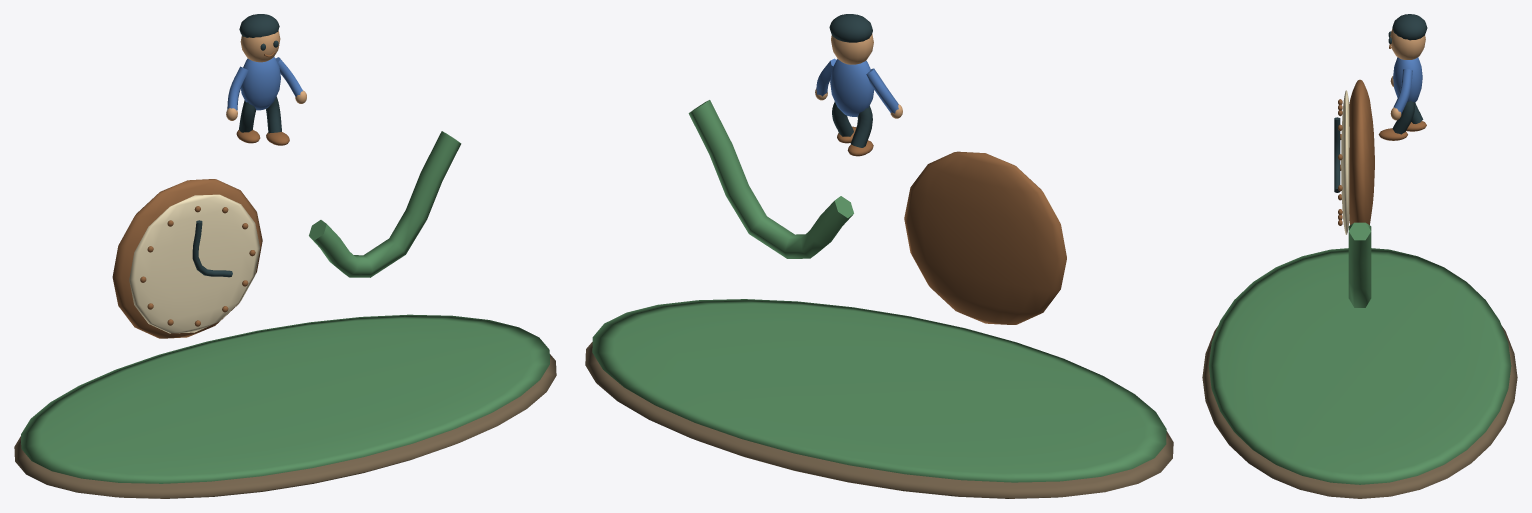
Rendered from complete-third-appointed-can-meet.glb.
3 renders of one model, left to right at view 1: azimuth 30°, elevation 25°; view 2: azimuth 150°, elevation 25°; view 3: azimuth 270°, elevation 25°, orthographic. The views are drawn at different scales.
Parts seen in each view (by area): view 1: complete-third-appointed-can-meet_surface_01, complete-third-appointed-can-meet_surface_03, complete-third-appointed-can-meet_surface_00, complete-third-appointed-can-meet_surface_02, complete-third-appointed-can-meet_surface_06, complete-third-appointed-can-meet_surface_04, complete-third-appointed-can-meet_surface_05; view 2: complete-third-appointed-can-meet_surface_01, complete-third-appointed-can-meet_surface_02, complete-third-appointed-can-meet_surface_00, complete-third-appointed-can-meet_surface_06, complete-third-appointed-can-meet_surface_04, complete-third-appointed-can-meet_surface_05; view 3: complete-third-appointed-can-meet_surface_01, complete-third-appointed-can-meet_surface_00, complete-third-appointed-can-meet_surface_02, complete-third-appointed-can-meet_surface_04, complete-third-appointed-can-meet_surface_06, complete-third-appointed-can-meet_surface_03, complete-third-appointed-can-meet_surface_05.
Part boxes in pixels (x1,y1,x2,y2): complete-third-appointed-can-meet_surface_01: (21, 131, 549, 483); complete-third-appointed-can-meet_surface_03: (129, 194, 260, 333); complete-third-appointed-can-meet_surface_00: (14, 354, 556, 498); complete-third-appointed-can-meet_surface_02: (112, 52, 289, 338); complete-third-appointed-can-meet_surface_06: (227, 57, 302, 110); complete-third-appointed-can-meet_surface_04: (192, 14, 281, 277); complete-third-appointed-can-meet_surface_05: (226, 30, 306, 120); complete-third-appointed-can-meet_surface_01: (592, 100, 1166, 482); complete-third-appointed-can-meet_surface_02: (837, 126, 1066, 324); complete-third-appointed-can-meet_surface_00: (585, 342, 1173, 498); complete-third-appointed-can-meet_surface_06: (816, 58, 898, 116); complete-third-appointed-can-meet_surface_04: (829, 14, 872, 147); complete-third-appointed-can-meet_surface_05: (815, 34, 902, 118); complete-third-appointed-can-meet_surface_01: (1208, 222, 1511, 484); complete-third-appointed-can-meet_surface_00: (1202, 326, 1517, 498); complete-third-appointed-can-meet_surface_02: (1338, 44, 1426, 225); complete-third-appointed-can-meet_surface_04: (1334, 14, 1427, 192); complete-third-appointed-can-meet_surface_06: (1393, 57, 1422, 113); complete-third-appointed-can-meet_surface_03: (1341, 90, 1349, 234); complete-third-appointed-can-meet_surface_05: (1390, 29, 1425, 120).
Bounding box in the file's own units: 4.56 × 3.29 × 2.5.
